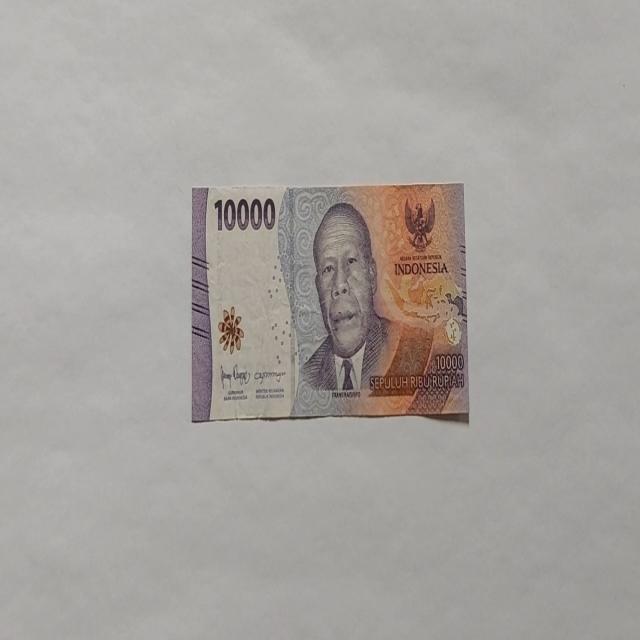sepuluh ribu rupiah: (190, 182, 470, 422)
